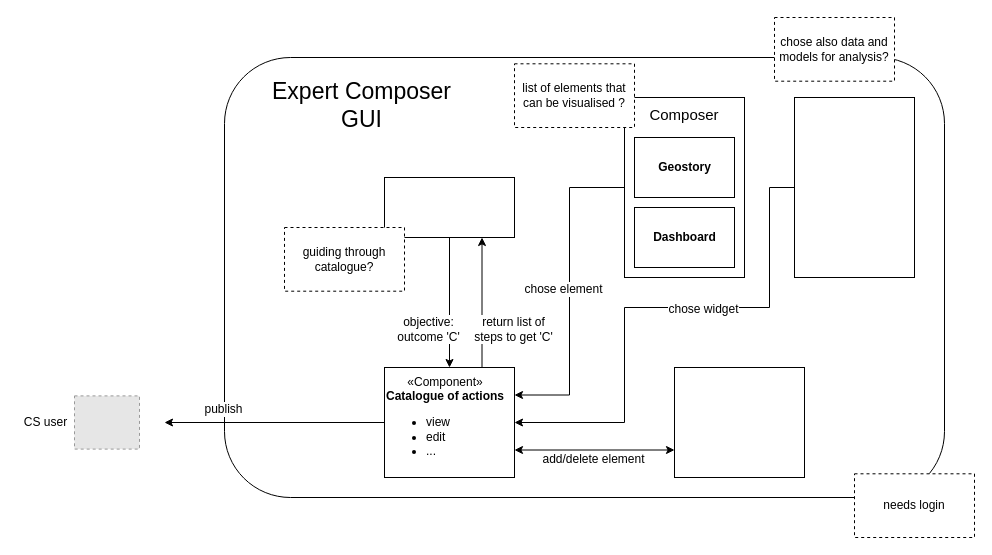
This 992x555 diagram has some shape labels left out. Grey dashed boxes stand in for pictures. Here are the shapes that lost their labels. From the top down, the box of each, then its label:
(384, 176, 514, 238): «Component» Computational wizard
(794, 96, 914, 278): WP3 visualisation examples
(674, 366, 804, 478): «Component» Catalogue of visualisation elements
